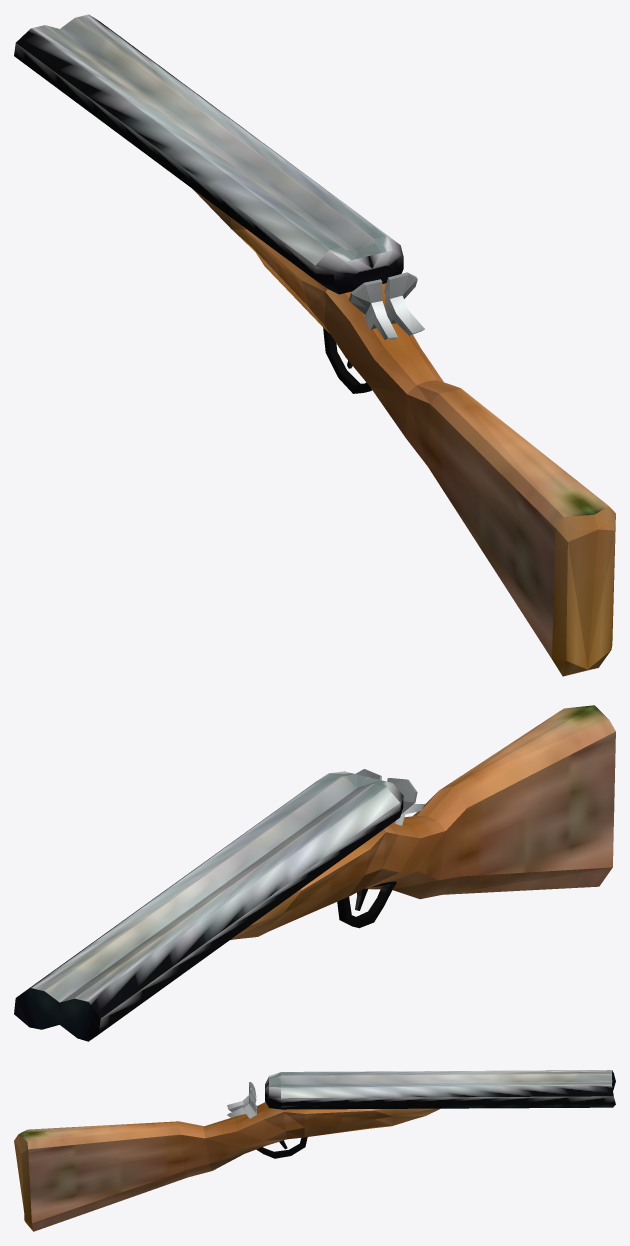
Rendered from shoot0042.obj.
3 renders of one model, top to bottom at view 1: azimuth 30°, elevation 25°; view 2: azimuth 150°, elevation 25°; view 3: azimuth 270°, elevation 25°, orthographic. The views are drawn at different scales.
Visible parts, largest first — view 1: Cube, Cube.001, Cube.003, Cube.002; view 2: Cube, Cube.001, Cube.002, Cube.003; view 3: Cube, Cube.001, Cube.003, Cube.002.
Boxes of the visible parts, x1,y1,x2,y2 form: Cube: [193, 189, 615, 676]; Cube.001: [14, 14, 403, 294]; Cube.003: [349, 272, 424, 339]; Cube.002: [323, 327, 371, 393]; Cube: [230, 705, 615, 939]; Cube.001: [14, 771, 403, 1041]; Cube.002: [337, 881, 396, 928]; Cube.003: [355, 769, 424, 825]; Cube: [14, 1102, 440, 1231]; Cube.001: [265, 1070, 615, 1109]; Cube.003: [227, 1082, 256, 1118]; Cube.002: [256, 1137, 307, 1158].
Size of the model in its own units: 0.2057 by 0.6196 by 2.27.
1 material, 1 textured.
